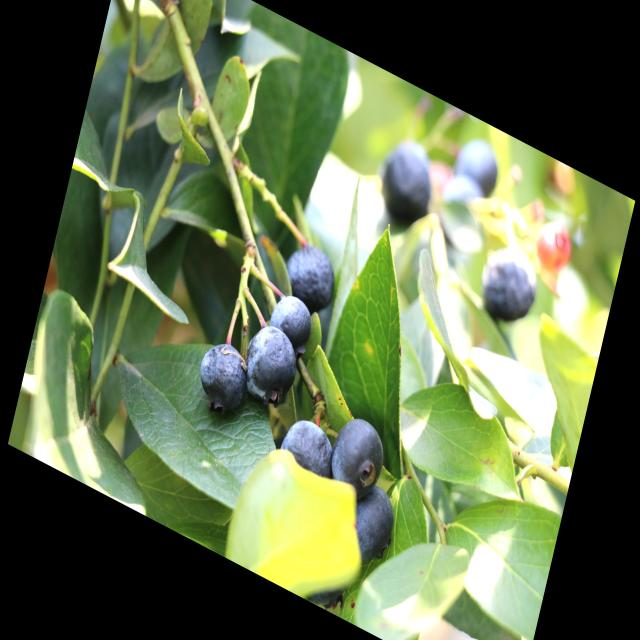blueberry: (465, 222, 547, 342), (365, 127, 446, 245), (231, 306, 310, 423), (338, 464, 411, 582), (320, 395, 394, 510), (270, 399, 348, 506), (187, 326, 261, 434), (272, 229, 344, 328), (258, 275, 323, 369), (443, 119, 505, 209)
blueberry-halfripe: (532, 215, 576, 276)
